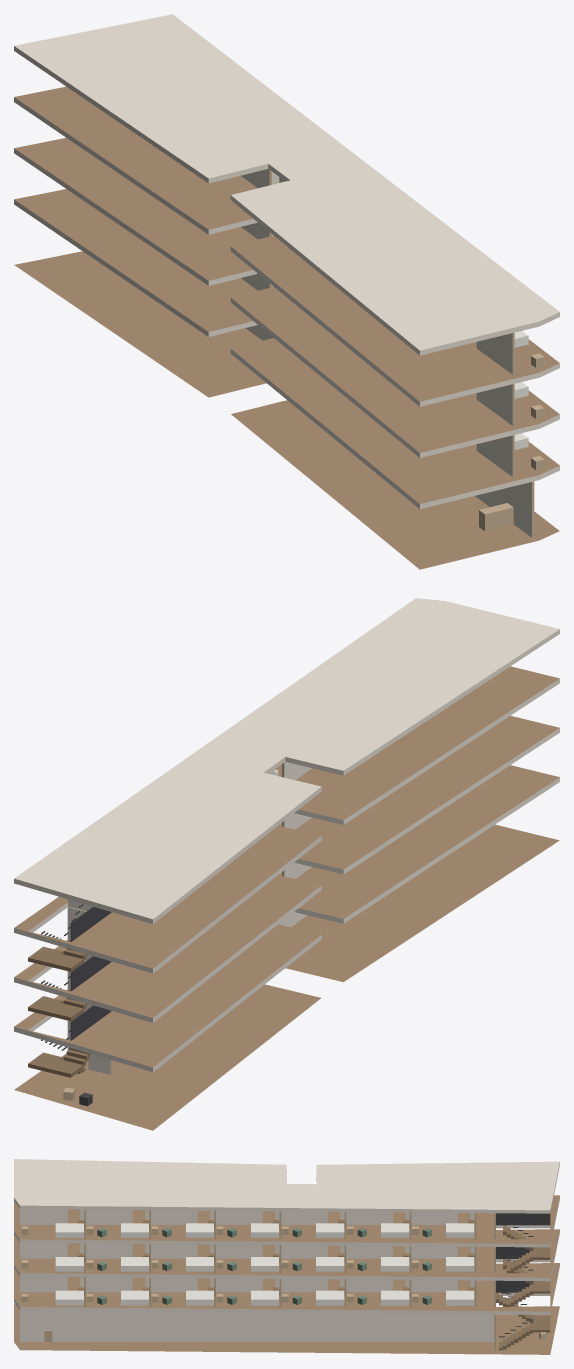
Rendered from interior.glb.
3 renders of one model, top to bottom at view 1: azimuth 30°, elevation 25°; view 2: azimuth 150°, elevation 25°; view 3: azimuth 270°, elevation 25°, orthographic. The views are drawn at different scales.
Visible parts, largest first — view 1: slabs, partitions, coarse-s0; view 2: slabs, stair, partitions; view 3: slabs, partitions, coarse-s1, coarse-s2, coarse-s3, stair.
Part boxes in pixels (left/top/right/bottom): slabs: left=14, top=14, right=559, bottom=569; partitions: left=241, top=169, right=534, bottom=537; coarse-s0: left=479, top=503, right=513, bottom=531; slabs: left=14, top=598, right=559, bottom=1130; stair: left=28, top=904, right=111, bottom=1077; partitions: left=67, top=762, right=311, bottom=1074; slabs: left=14, top=1159, right=559, bottom=1354; partitions: left=20, top=1209, right=495, bottom=1350; coarse-s1: left=21, top=1287, right=474, bottom=1305; coarse-s2: left=21, top=1253, right=474, bottom=1271; coarse-s3: left=21, top=1220, right=474, bottom=1237; stair: left=496, top=1213, right=550, bottom=1350.
Size of the model in its own units: 8.6 by 11.32 by 38.69.
